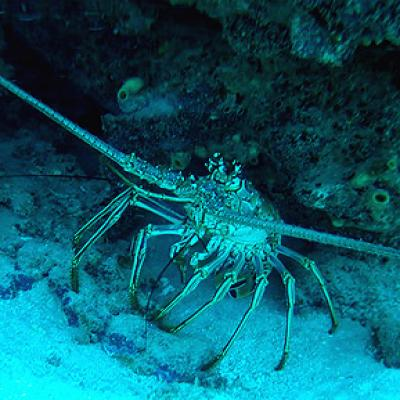lobster: (159, 155, 284, 316)
